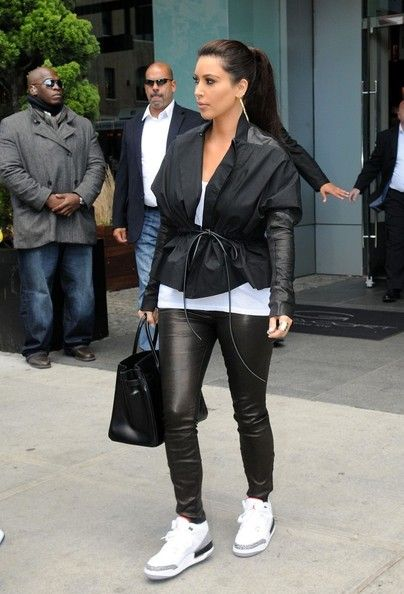Person: (154, 49, 280, 561), (14, 69, 110, 347)
